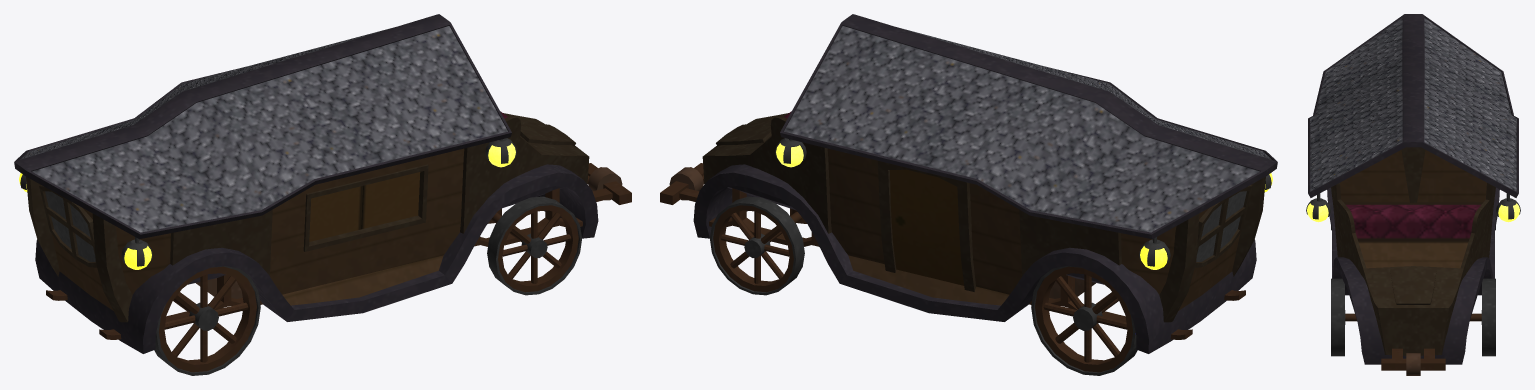
Rendered from MerchantsCart.fbx.
3 views of the same model, side by side, from view 1: azimuth 30°, elevation 25°; view 2: azimuth 150°, elevation 25°; view 3: azimuth 270°, elevation 25° (orthographic). The views are drawn at different scales.
Visible parts, largest first — view 1: MerchantsCart, MerchantsCartW2, MerchantsCartW1; view 2: MerchantsCart; view 3: MerchantsCart.
Boxes of the visible parts, x1=… form: MerchantsCart: x1=14, y1=14, x2=631, y2=375; MerchantsCartW2: x1=361, y1=172, x2=420, y2=229; MerchantsCartW1: x1=309, y1=186, x2=363, y2=241; MerchantsCart: x1=660, y1=14, x2=1277, y2=375; MerchantsCart: x1=1306, y1=14, x2=1520, y2=375.
Size of the model in its own units: 781 by 310 by 309.
1 material, 1 textured.
